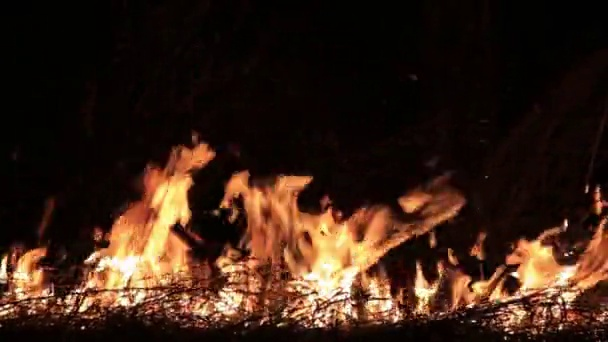fire: (210, 162, 456, 320), (64, 142, 213, 311), (499, 241, 608, 327), (415, 265, 496, 309), (1, 248, 47, 313)
